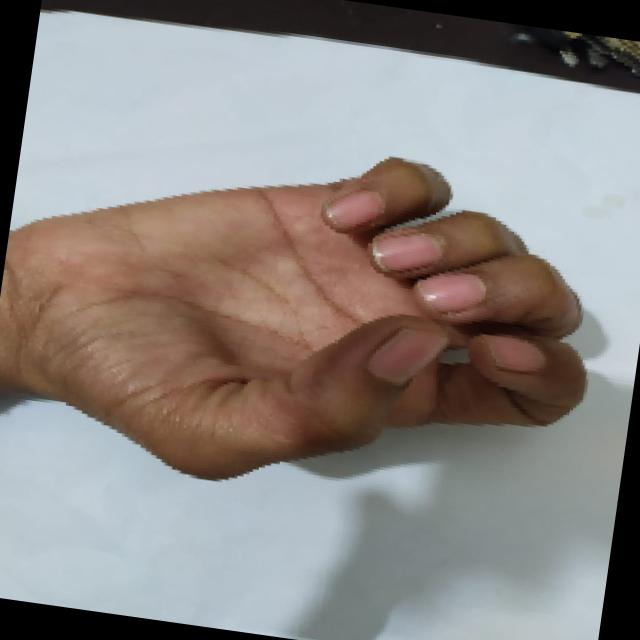Nail: (367, 328, 447, 385), (417, 275, 486, 312), (371, 235, 441, 271), (325, 191, 383, 231), (483, 335, 545, 372)
